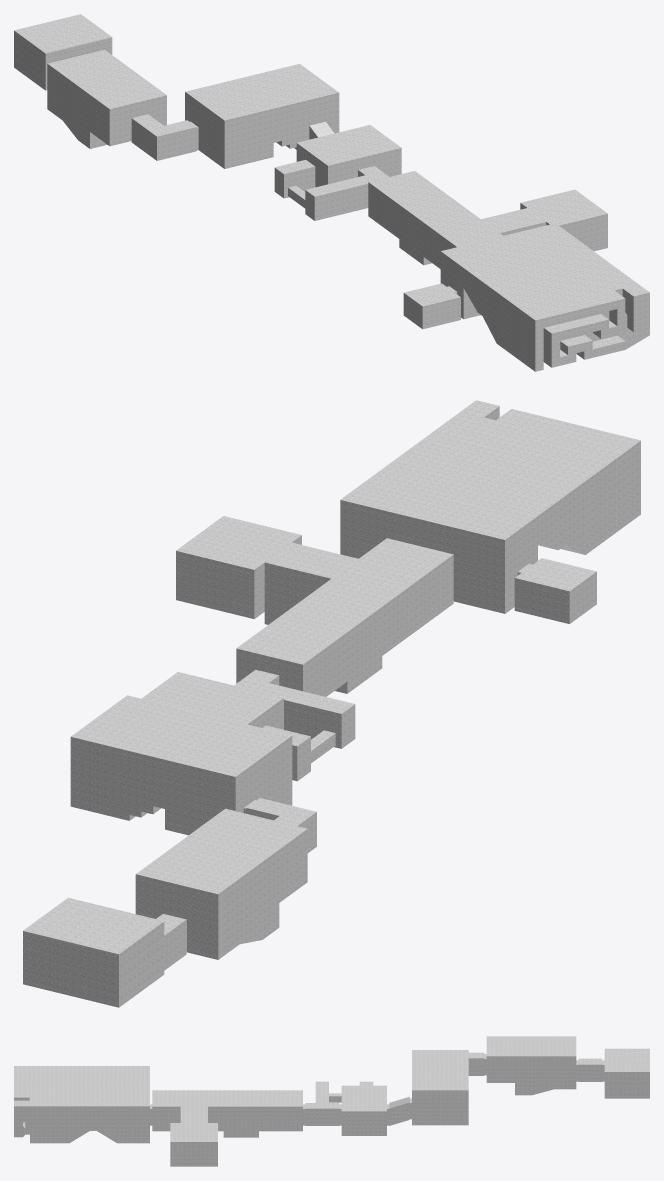
File: Level1.obj
The picture shows the model from 3 angles, top to bottom: view 1: azimuth 30°, elevation 25°; view 2: azimuth 150°, elevation 25°; view 3: azimuth 270°, elevation 25°; orthographic projection. The views are drawn at different scales.
Visible parts, largest first — view 1: Level1; view 2: Level1; view 3: Level1.
Boxes of the visible parts, x1,y1,x2,y2 form: Level1: (14,14,649,371); Level1: (23,400,640,1007); Level1: (14,1036,649,1166).
Size of the model in its own units: 51 by 11.5 by 140.
